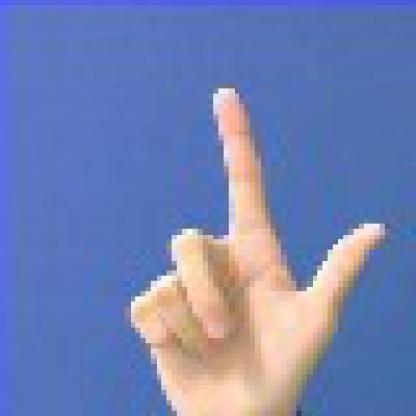seven: (73, 52, 411, 411)
